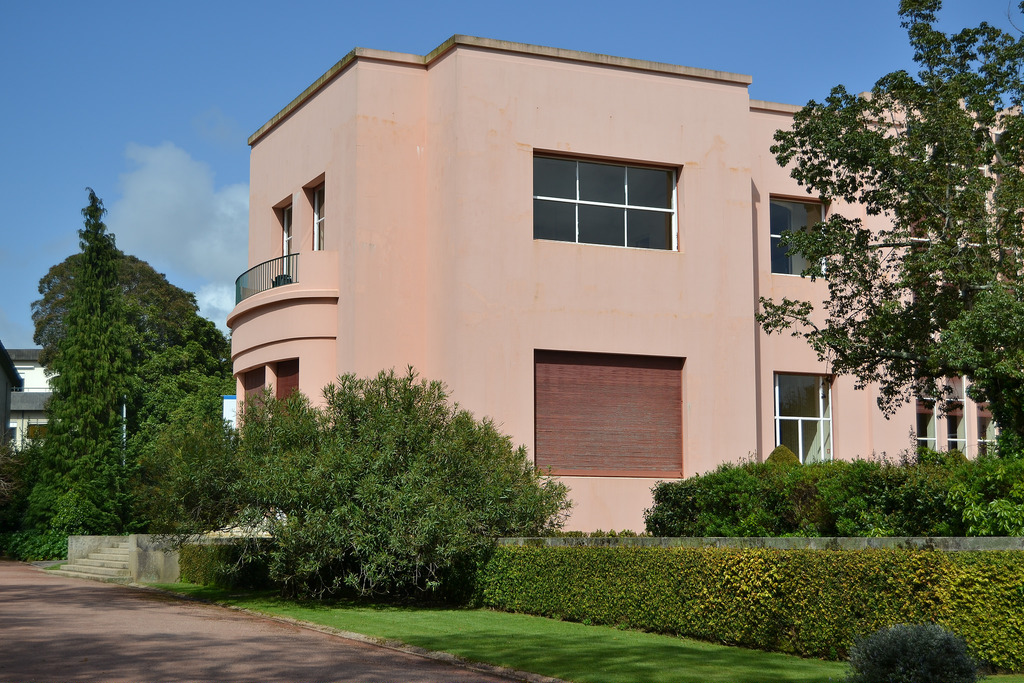serralves: (229, 0, 1023, 534)
